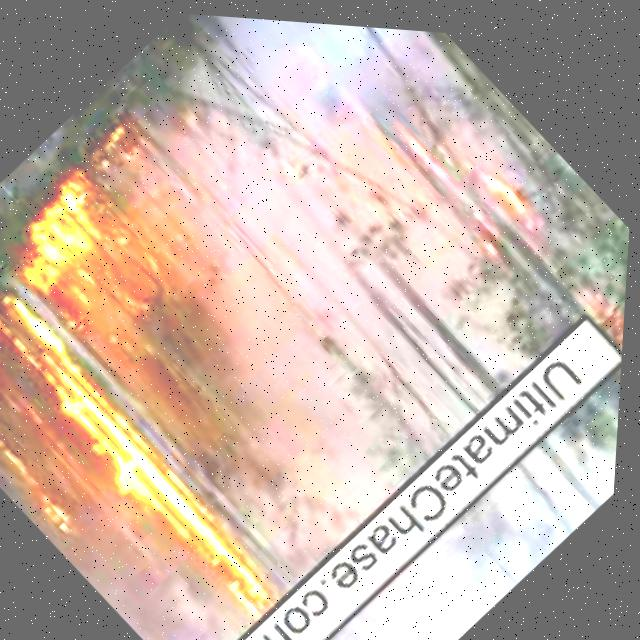Fire: (0, 325, 310, 639), (0, 153, 156, 432), (456, 139, 552, 233)
Smoke: (35, 31, 593, 598), (299, 352, 624, 640), (0, 431, 244, 640), (176, 10, 393, 108)
